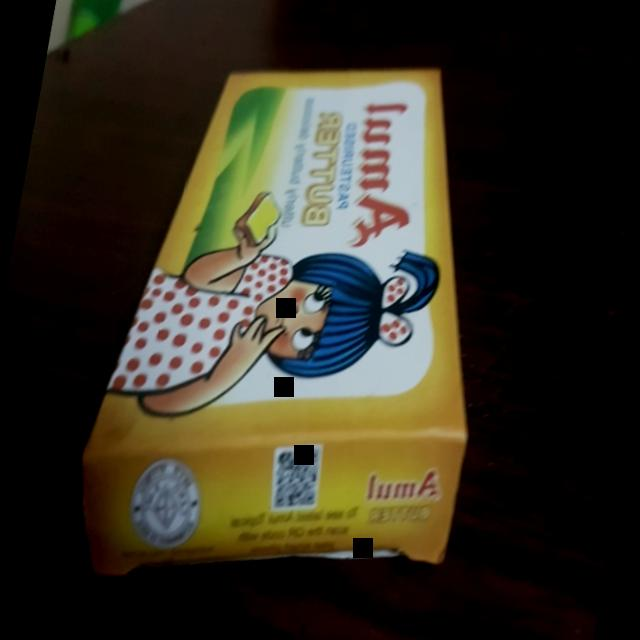butter: (54, 10, 539, 640)
